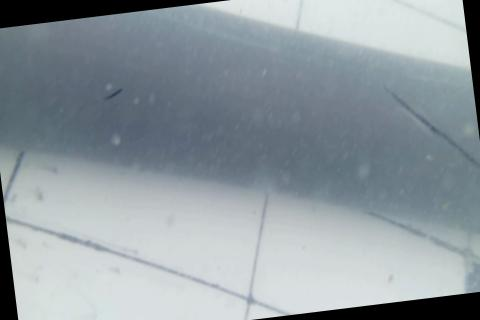keretakan: (383, 74, 480, 184), (103, 86, 126, 102)
